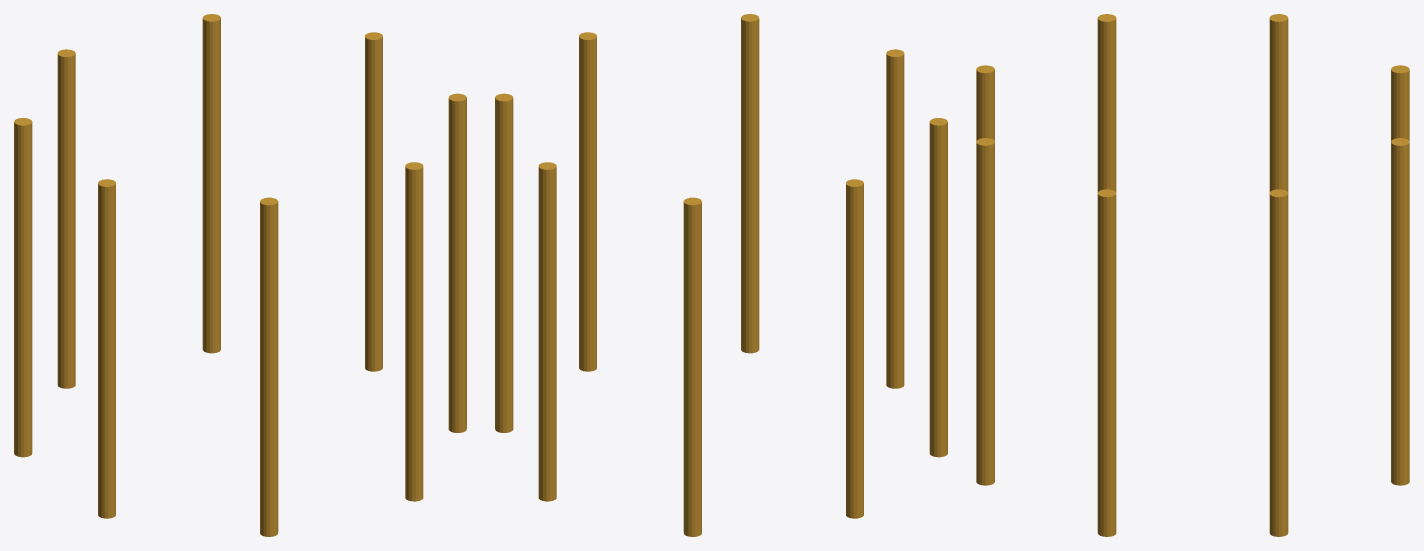
File: BB_Reusable_Cage_Post.obj
3 renders of one model, left to right at view 1: azimuth 30°, elevation 25°; view 2: azimuth 150°, elevation 25°; view 3: azimuth 270°, elevation 25°, orthographic. The views are drawn at different scales.
Parts seen in each view (by area): view 1: Cage_Post; view 2: Cage_Post; view 3: Cage_Post.
Part boxes in pixels (x1,y1,x2,y2): Cage_Post: [14, 14, 466, 536]; Cage_Post: [495, 14, 947, 536]; Cage_Post: [976, 14, 1409, 536].
Bounding box in the file's own units: 1.39 × 1.2 × 1.39.
